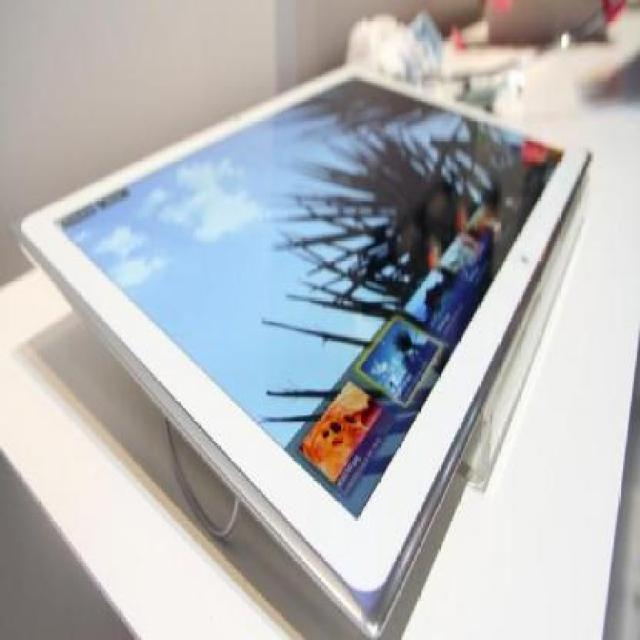tablet: (12, 41, 607, 624)
